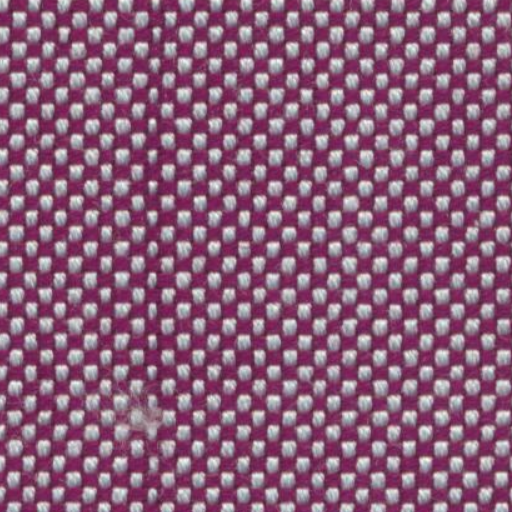TuoSha: (89, 14, 225, 475)
